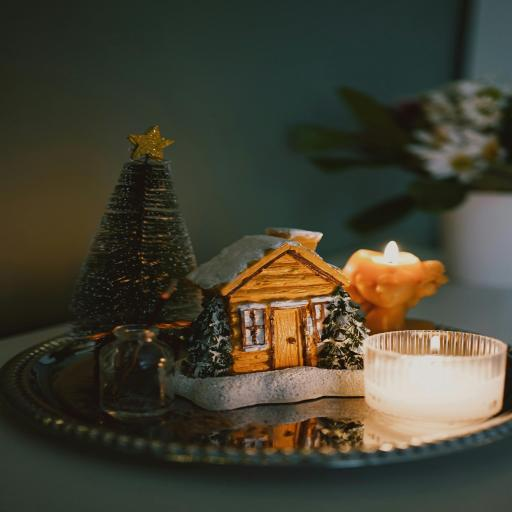candlelight: (345, 308, 512, 417), (334, 218, 456, 320)
